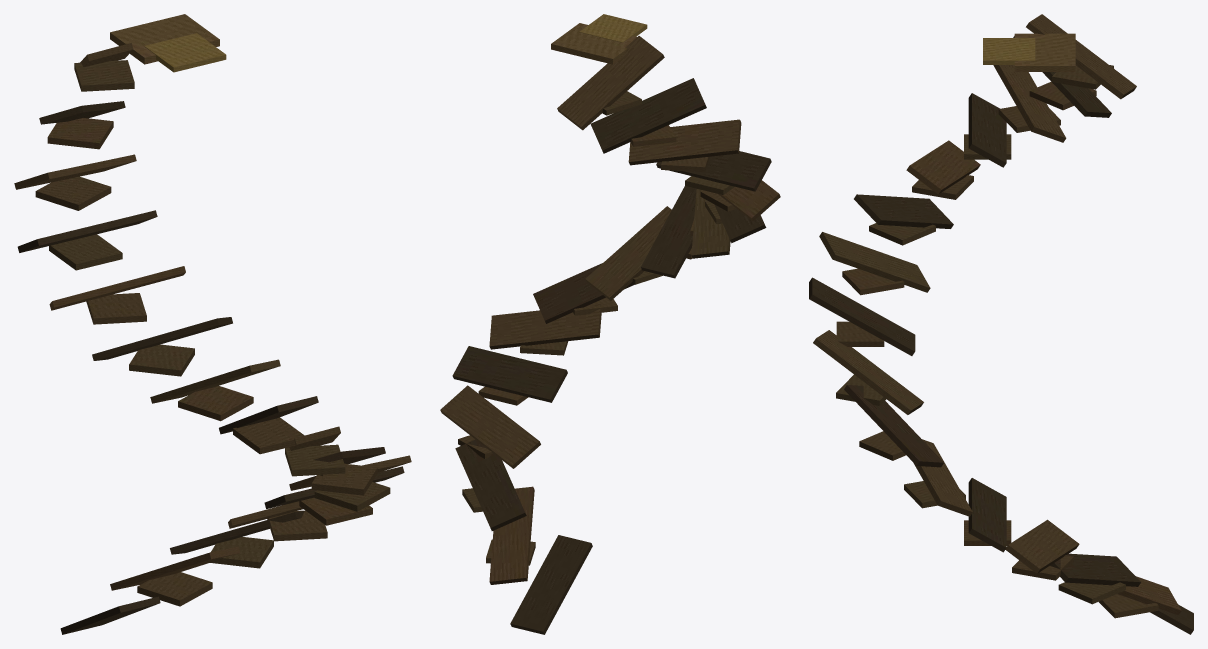
Rendered from yggdrasil-crown-ascent-merged-2026-04-25T02-12-58-163Z.low.glb.
The picture shows the model from 3 angles, left to right: view 1: azimuth 30°, elevation 25°; view 2: azimuth 150°, elevation 25°; view 3: azimuth 270°, elevation 25°; orthographic projection. The views are drawn at different scales.
Visible parts, largest first — view 1: Crown Threshold Platform, Crown Bridge, Crown Landing 9, Crown Landing 12, Crown Landing 13, Crown Landing 1, Crown Landing 8, Crown Landing 10, Crown Landing 14, Crown Landing 15, Crown Landing 11, Crown Landing 7 (+21 smaller); view 2: Crown Ramp 5, Crown Ramp 1, Crown Ramp 15, Crown Ramp 16, Crown Ramp 4, Crown Ramp 6, Crown Ramp 14, Crown Ramp 3, Crown Ramp 2, Crown Ramp 9, Crown Ramp 8, Crown Ramp 13 (+11 smaller); view 3: Crown Ramp 9, Crown Ramp 10, Crown Ramp 8, Crown Ramp 11, Crown Ramp 7, Crown Ramp 5, Crown Ramp 13, Crown Ramp 4, Crown Ramp 14, Crown Ramp 12, Crown Ramp 3, Crown Ramp 16 (+19 smaller).
Boxes of the visible parts, bbox=[...] form: Crown Threshold Platform: bbox=[110, 14, 219, 64]; Crown Bridge: bbox=[144, 33, 226, 72]; Crown Landing 9: bbox=[178, 386, 253, 421]; Crown Landing 12: bbox=[49, 234, 122, 270]; Crown Landing 13: bbox=[35, 176, 111, 210]; Crown Landing 1: bbox=[137, 572, 212, 606]; Crown Landing 8: bbox=[233, 417, 304, 454]; Crown Landing 10: bbox=[129, 344, 194, 376]; Crown Landing 14: bbox=[47, 118, 113, 149]; Crown Landing 15: bbox=[74, 60, 134, 91]; Crown Landing 11: bbox=[86, 293, 146, 324]; Crown Landing 7: bbox=[285, 444, 345, 476]; Crown Ramp 5: bbox=[452, 346, 567, 402]; Crown Ramp 1: bbox=[510, 535, 592, 634]; Crown Ramp 15: bbox=[590, 78, 706, 153]; Crown Ramp 16: bbox=[557, 36, 664, 130]; Crown Ramp 4: bbox=[440, 385, 540, 468]; Crown Ramp 6: bbox=[489, 303, 601, 349]; Crown Ramp 14: bbox=[628, 119, 741, 165]; Crown Ramp 3: bbox=[455, 439, 526, 530]; Crown Ramp 2: bbox=[489, 486, 534, 584]; Crown Ramp 9: bbox=[641, 186, 696, 278]; Crown Ramp 8: bbox=[585, 206, 671, 300]; Crown Ramp 13: bbox=[656, 151, 771, 191]; Crown Ramp 9: bbox=[809, 277, 915, 355]; Crown Ramp 10: bbox=[819, 232, 930, 292]; Crown Ramp 8: bbox=[813, 330, 923, 414]; Crown Ramp 11: bbox=[854, 194, 953, 228]; Crown Ramp 7: bbox=[844, 385, 943, 467]; Crown Ramp 5: bbox=[968, 478, 1006, 552]; Crown Ramp 13: bbox=[968, 93, 1006, 167]; Crown Ramp 4: bbox=[1005, 519, 1079, 573]; Crown Ramp 14: bbox=[993, 65, 1066, 142]; Crown Ramp 12: bbox=[906, 140, 980, 194]; Crown Ramp 3: bbox=[1050, 553, 1141, 586]; Crown Ramp 16: bbox=[1026, 14, 1136, 99].
Size of the model in its own units: 61.89 by 108 by 64.04.
Materials: 33 (33 with a texture image).
